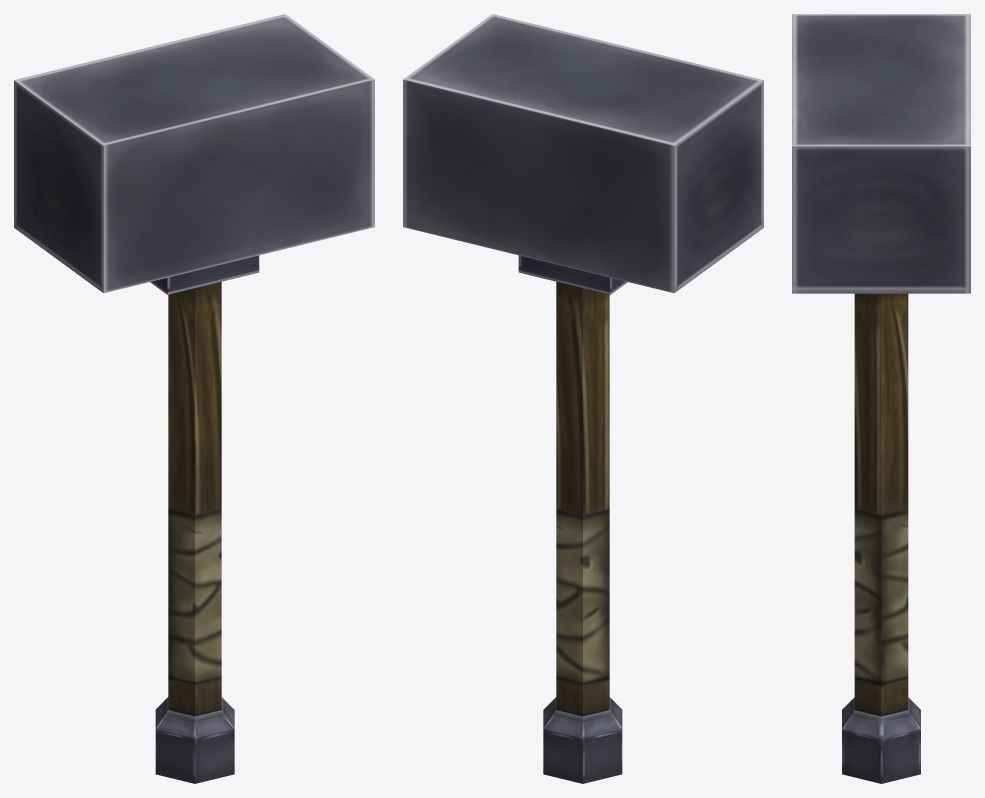
Rendered from hammer_lvl_01.fbx.
The picture shows the model from 3 angles, left to right: view 1: azimuth 30°, elevation 25°; view 2: azimuth 150°, elevation 25°; view 3: azimuth 270°, elevation 25°; orthographic projection.
Parts seen in each view (by area): view 1: hammer_lvl_01; view 2: hammer_lvl_01; view 3: hammer_lvl_01.
Part boxes in pixels (x1,y1,x2,y2): hammer_lvl_01: (14,14,374,783); hammer_lvl_01: (403,14,763,783); hammer_lvl_01: (792,14,970,783).
Size of the model in its own units: 2.02 by 4.87 by 1.15.
